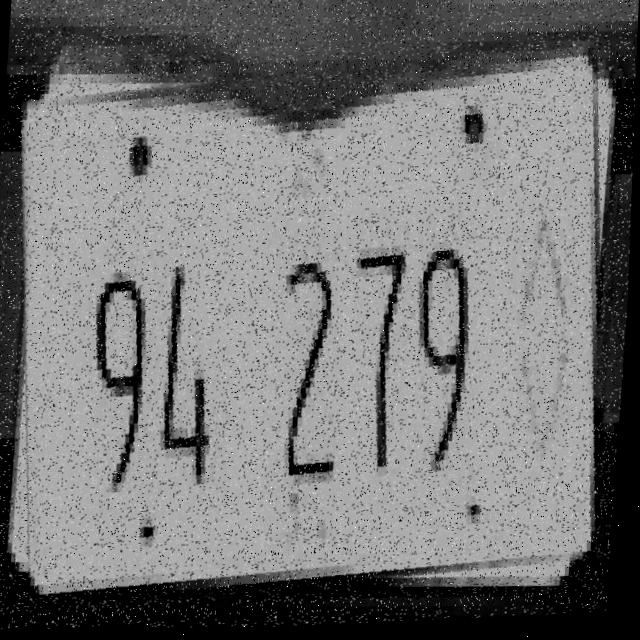LicensePlate: (0, 42, 631, 621)
